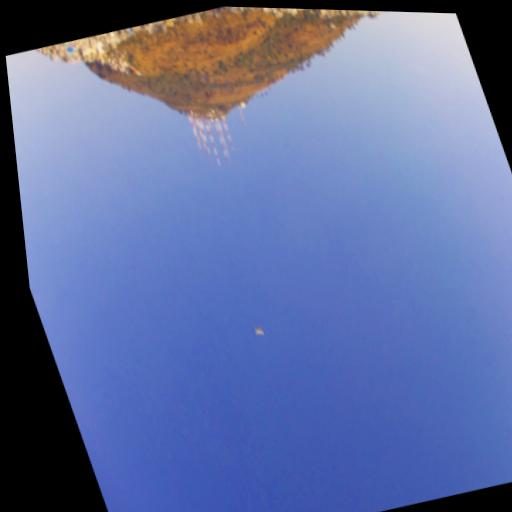drones: (251, 324, 266, 339)
